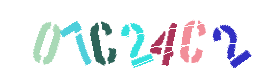2: (91, 0, 171, 80), (184, 0, 264, 80)
4: (125, 0, 205, 80)
7: (61, 0, 141, 80)
C: (70, 0, 150, 80), (147, 0, 227, 80)
O: (31, 0, 111, 80)
